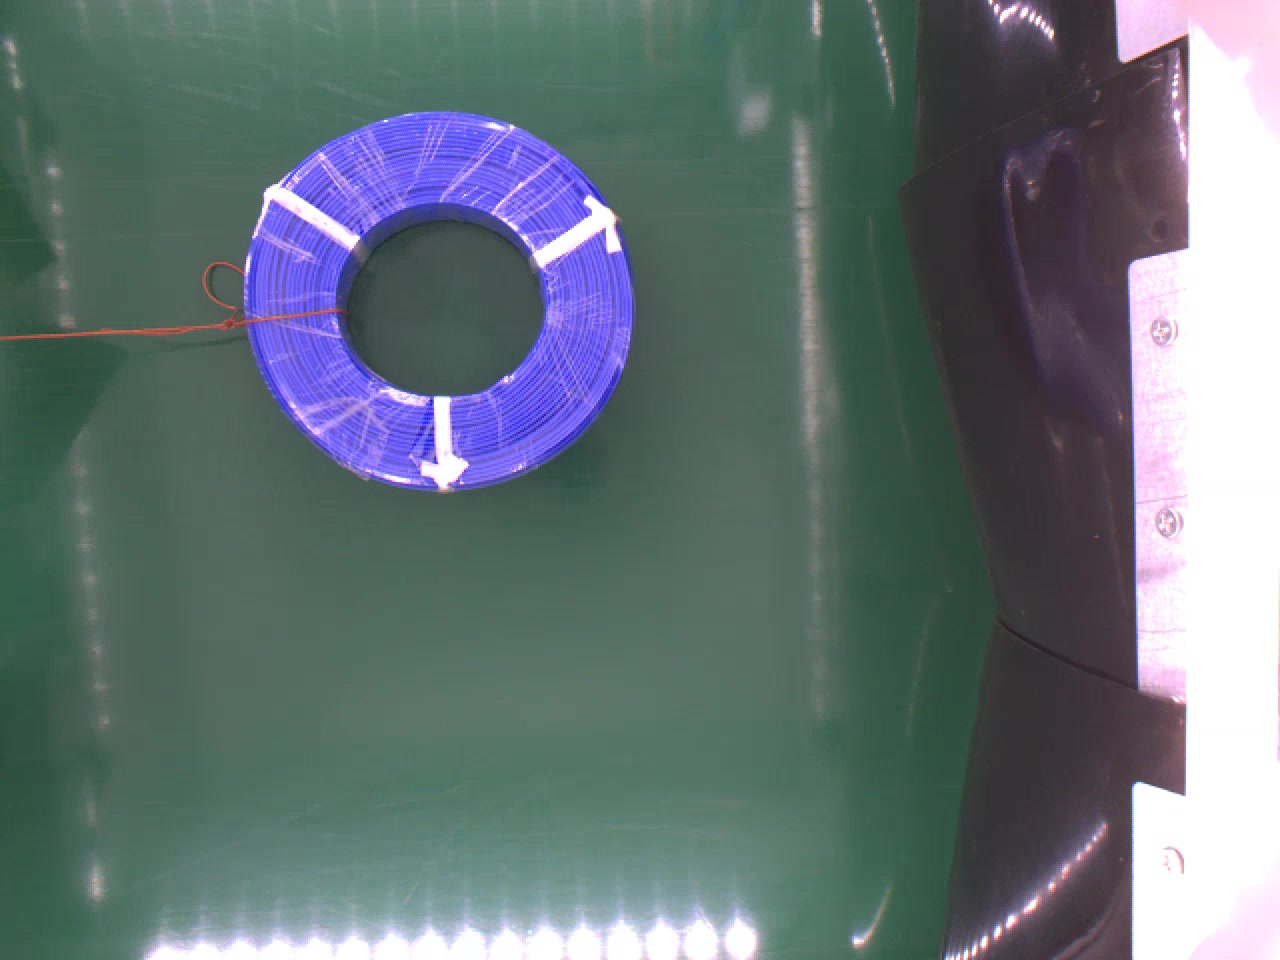blue: (243, 106, 637, 499)
